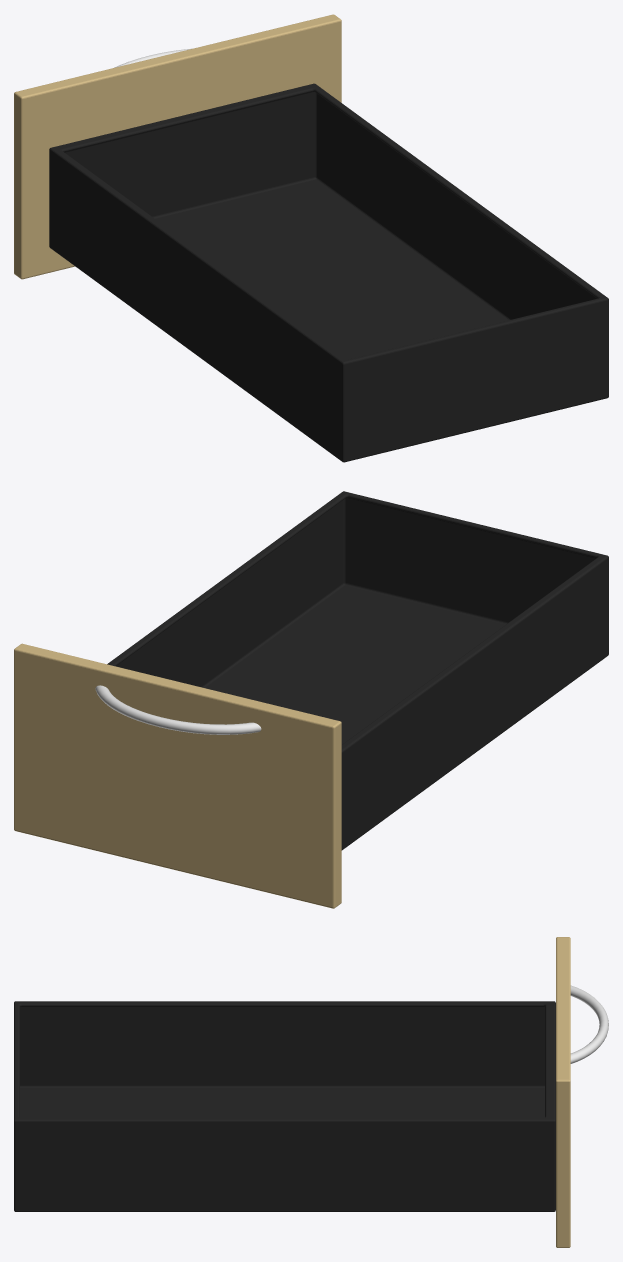
File: bottom_drawer.fbx
The picture shows the model from 3 angles, top to bottom: view 1: azimuth 30°, elevation 25°; view 2: azimuth 150°, elevation 25°; view 3: azimuth 270°, elevation 25°; orthographic projection. The views are drawn at different scales.
Parts seen in each view (by area): view 1: drawer_bottom; view 2: drawer_bottom, Torus.003; view 3: drawer_bottom, Torus.003.
Part boxes in pixels (box(x1,y1,x2,y2)): drawer_bottom: box(14, 14, 608, 462); drawer_bottom: box(14, 491, 608, 908); Torus.003: box(95, 685, 261, 734); drawer_bottom: box(14, 937, 570, 1247); Torus.003: box(570, 985, 608, 1063).
Bounding box in the file's own units: 86.8 × 47.18 × 151.
